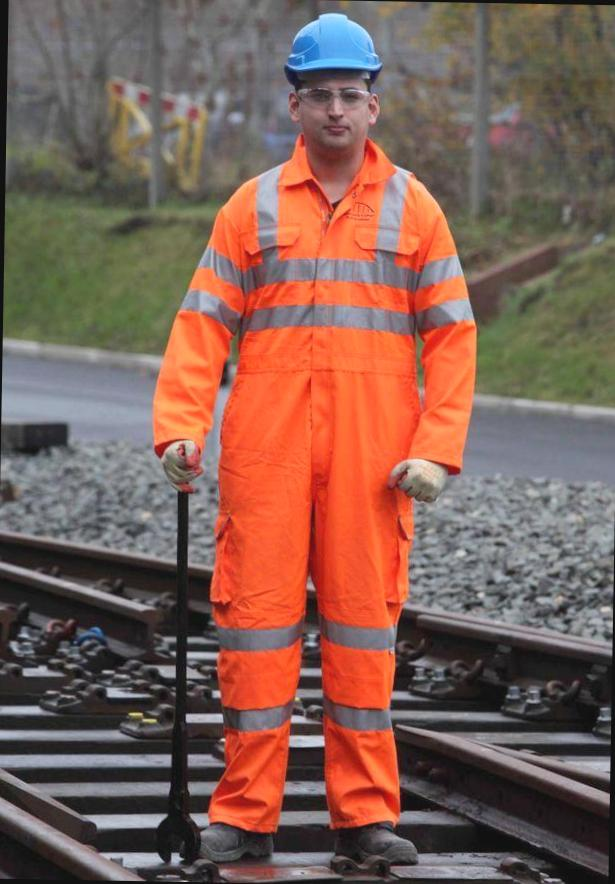helmet: (271, 8, 397, 98)
person: (140, 4, 490, 865)
